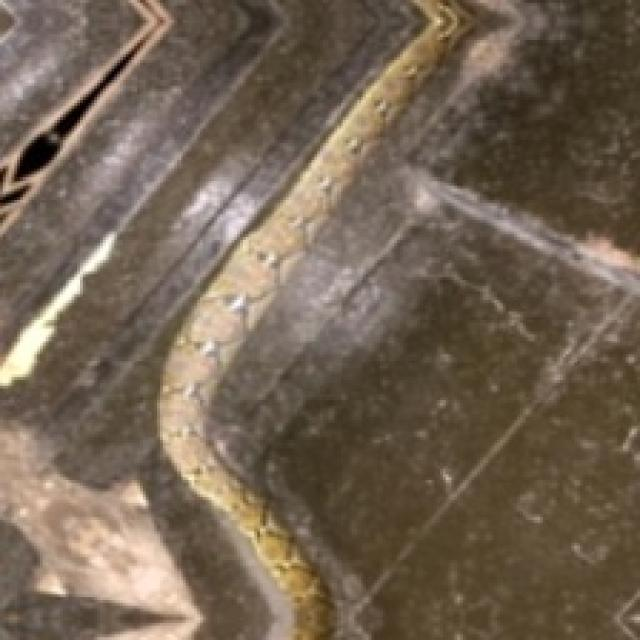reticulated python: (159, 0, 465, 639)
